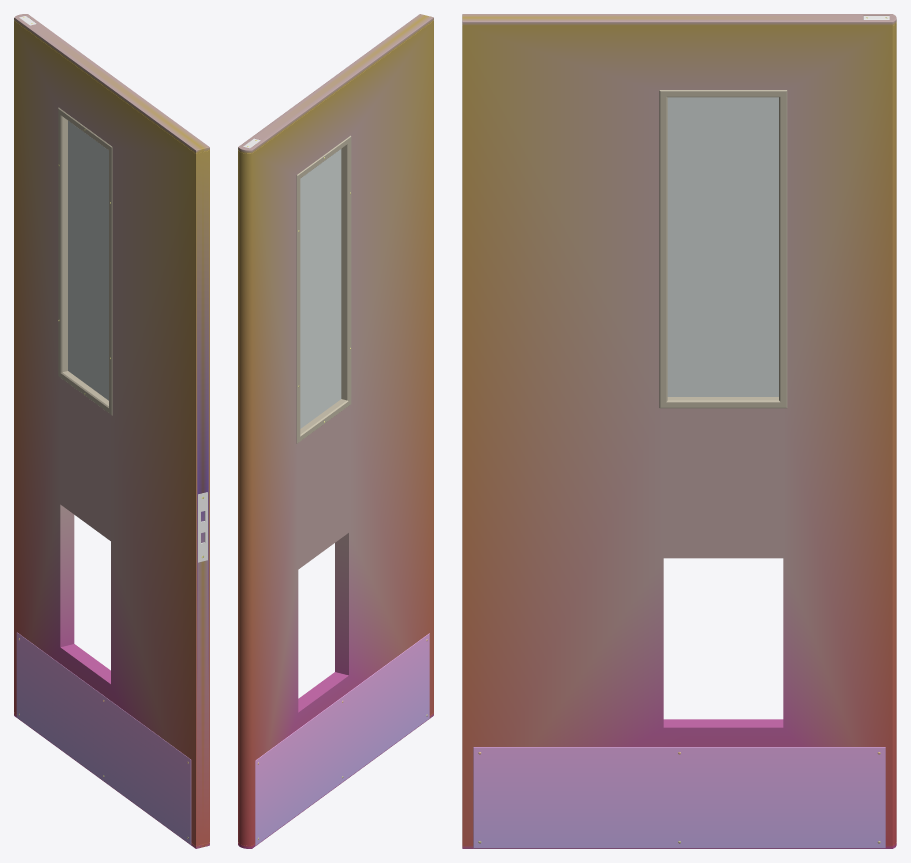
Rendered from Kit_DoorLeaf_SteelLouvreLocked_DA.fbx.
The picture shows the model from 3 angles, left to right: view 1: azimuth 30°, elevation 25°; view 2: azimuth 150°, elevation 25°; view 3: azimuth 270°, elevation 25°; orthographic projection. The views are drawn at different scales.
Parts seen in each view (by area): view 1: Kit_DoorLeaf_SteelLouvreLocked_DA_LOD0; view 2: Kit_DoorLeaf_SteelLouvreLocked_DA_LOD0; view 3: Kit_DoorLeaf_SteelLouvreLocked_DA_LOD0.
Boxes of the visible parts, bbox=[...] form: Kit_DoorLeaf_SteelLouvreLocked_DA_LOD0: bbox=[14, 14, 209, 848]; Kit_DoorLeaf_SteelLouvreLocked_DA_LOD0: bbox=[238, 14, 433, 848]; Kit_DoorLeaf_SteelLouvreLocked_DA_LOD0: bbox=[462, 14, 896, 848].
Size of what is drawn, in the model's own units: 0.0498 by 2.08 by 0.9902.
